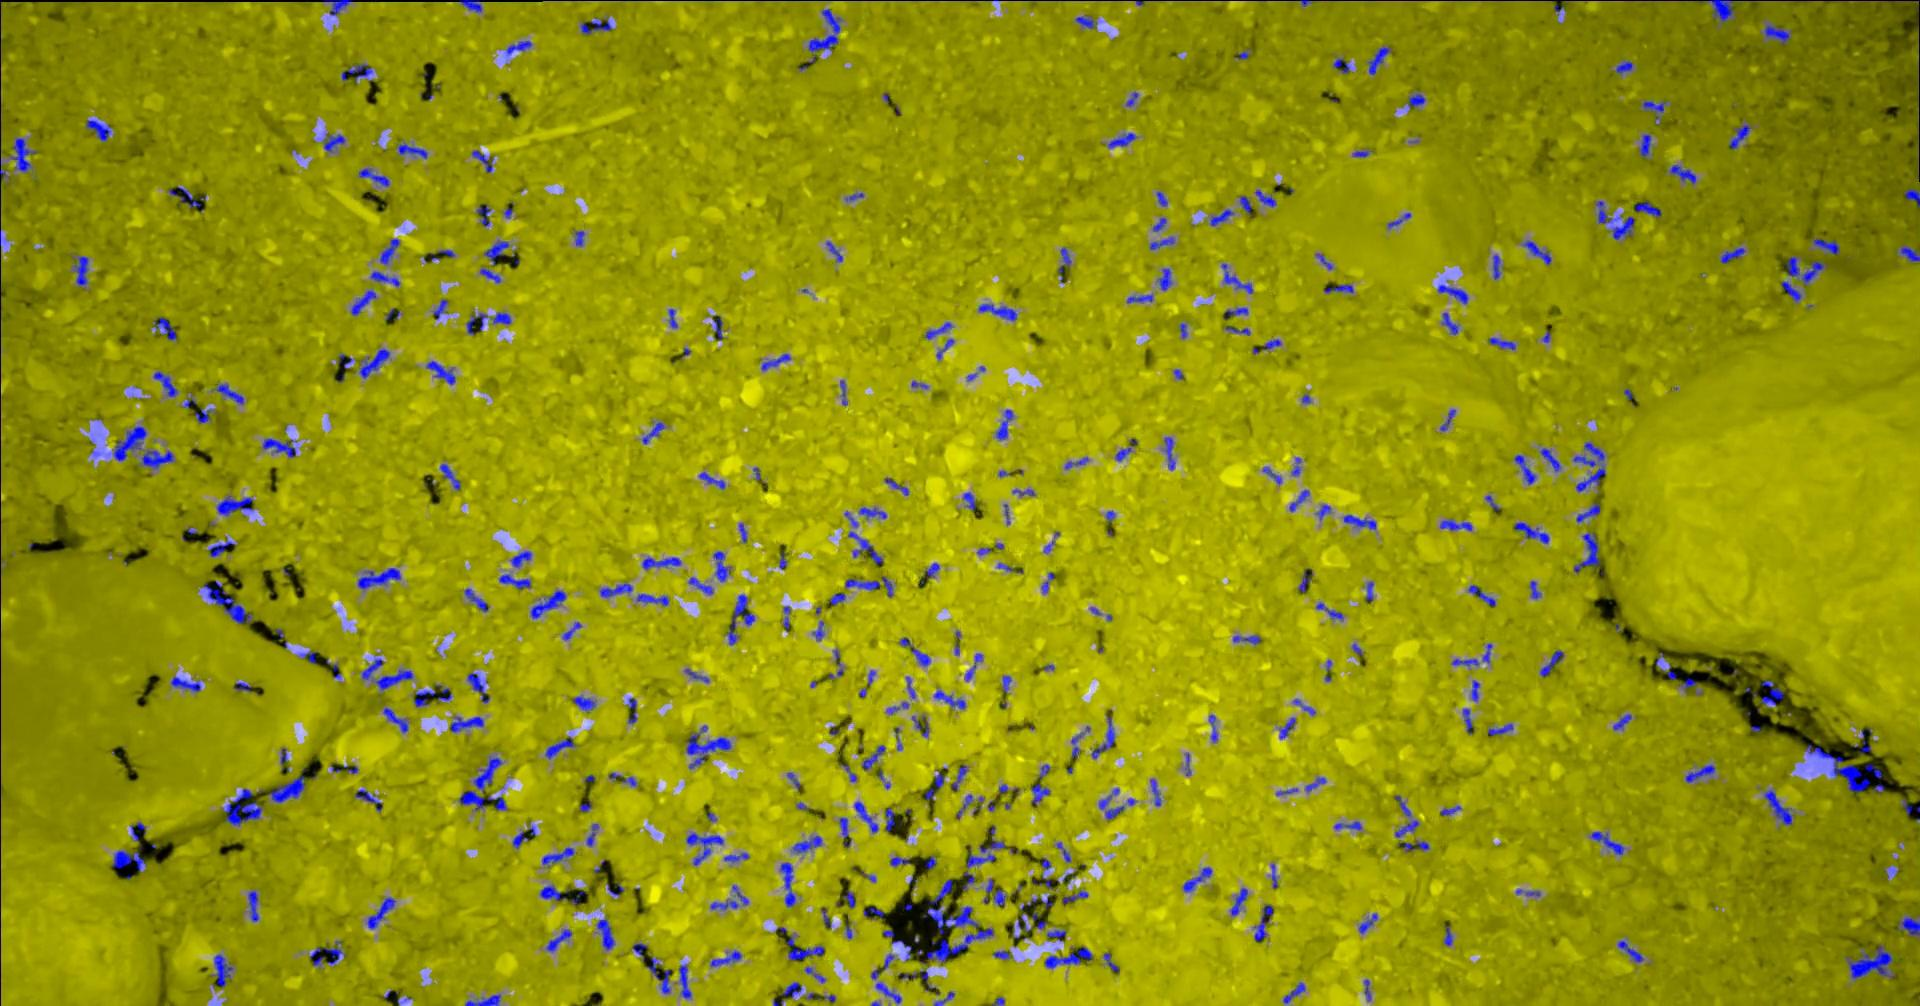ant: (1804, 744, 1869, 793), (202, 579, 251, 622), (808, 8, 841, 62), (1572, 441, 1605, 492), (1846, 944, 1895, 978), (870, 953, 902, 1005), (684, 733, 730, 768), (1595, 199, 1634, 239), (223, 788, 262, 826), (726, 594, 754, 644), (268, 767, 305, 801), (1017, 895, 1051, 932), (684, 832, 723, 865), (1785, 255, 1826, 285), (112, 426, 146, 460), (847, 531, 883, 563), (530, 589, 566, 619), (472, 756, 502, 793), (1091, 711, 1114, 758), (1573, 532, 1600, 572), (1044, 946, 1092, 968), (785, 935, 824, 960), (1763, 789, 1790, 824), (357, 567, 400, 589), (1693, 0, 1735, 23), (844, 575, 891, 596), (458, 790, 505, 810), (1222, 263, 1252, 293), (710, 885, 748, 909), (309, 940, 344, 965), (359, 348, 389, 379), (899, 636, 930, 666), (367, 897, 395, 929), (883, 929, 910, 960), (10, 137, 36, 171), (648, 956, 670, 993), (1098, 788, 1124, 819), (168, 185, 204, 207), (1512, 521, 1549, 542), (1589, 831, 1623, 854), (1030, 763, 1049, 804), (853, 801, 877, 832), (778, 862, 795, 907), (1523, 239, 1550, 264), (425, 359, 455, 384), (216, 495, 253, 514), (375, 669, 411, 688), (1253, 904, 1272, 941), (1512, 453, 1535, 484), (545, 735, 575, 758), (965, 845, 996, 868), (110, 850, 145, 870), (979, 826, 1004, 852), (1183, 866, 1211, 890), (772, 982, 801, 1005), (467, 672, 489, 702), (262, 438, 296, 457), (977, 304, 1016, 320), (541, 847, 573, 868), (1368, 46, 1390, 74), (140, 448, 173, 467), (484, 240, 508, 265), (350, 290, 375, 315), (152, 371, 177, 396), (1539, 650, 1563, 676), (340, 64, 372, 83), (1467, 584, 1495, 606), (354, 789, 382, 810), (213, 384, 243, 404), (215, 954, 232, 987), (1642, 100, 1666, 124), (383, 708, 408, 732), (358, 166, 389, 185), (1437, 285, 1468, 304), (1760, 680, 1783, 705), (596, 920, 615, 950), (546, 929, 571, 951), (1617, 940, 1643, 962), (1763, 24, 1790, 44), (538, 884, 573, 901), (579, 17, 611, 34), (933, 690, 965, 708), (1685, 763, 1714, 782), (924, 771, 943, 800), (152, 316, 177, 339), (463, 588, 488, 611), (861, 744, 884, 768), (85, 119, 110, 141), (1669, 164, 1695, 184), (378, 238, 399, 264), (208, 536, 235, 556), (985, 878, 1004, 906), (710, 950, 742, 967), (1728, 124, 1750, 149), (792, 835, 822, 852), (439, 464, 460, 489), (1575, 502, 1600, 522), (996, 409, 1012, 439), (450, 716, 483, 732), (641, 556, 681, 569), (1229, 887, 1247, 915), (471, 149, 493, 171), (1283, 982, 1304, 1005), (918, 561, 938, 586), (1851, 729, 1872, 753), (498, 574, 530, 589), (761, 353, 790, 370), (712, 551, 729, 580), (827, 649, 843, 678), (964, 653, 982, 680), (466, 312, 488, 334), (1288, 489, 1309, 511), (361, 658, 382, 680), (1780, 279, 1801, 302), (643, 420, 663, 443), (170, 676, 201, 691), (1896, 916, 1919, 936), (599, 583, 632, 597), (1316, 602, 1343, 619), (1540, 447, 1559, 471), (688, 575, 712, 594), (698, 471, 724, 489), (323, 0, 352, 15), (1107, 132, 1137, 147), (72, 255, 88, 285), (370, 271, 399, 286), (1343, 514, 1375, 528), (1634, 201, 1661, 217), (924, 323, 951, 339), (323, 133, 345, 152), (678, 964, 691, 998), (884, 478, 908, 495), (1394, 819, 1418, 837), (463, 993, 500, 1005), (1813, 238, 1839, 254), (1357, 912, 1377, 934), (397, 144, 427, 158), (413, 688, 436, 706), (1209, 208, 1233, 225), (1719, 246, 1743, 263), (571, 694, 596, 710), (608, 772, 636, 786), (505, 39, 531, 55), (951, 765, 966, 790), (935, 338, 952, 359), (1439, 518, 1472, 530), (1293, 699, 1316, 715), (1297, 568, 1312, 592), (1163, 437, 1175, 469), (636, 593, 668, 605), (1255, 189, 1275, 207), (910, 715, 928, 735), (1441, 312, 1458, 334), (1439, 409, 1455, 431), (1279, 716, 1295, 738), (1057, 246, 1070, 272), (858, 506, 886, 518), (1387, 212, 1410, 227), (1398, 840, 1429, 851), (1488, 337, 1515, 349), (1262, 466, 1281, 484), (563, 621, 582, 639), (1611, 713, 1630, 730), (684, 668, 709, 682), (825, 240, 842, 260), (510, 550, 531, 567), (838, 817, 850, 846), (804, 967, 825, 982), (1149, 236, 1175, 249), (1487, 723, 1512, 735), (1062, 890, 1087, 903), (1407, 91, 1425, 109), (510, 829, 527, 848), (1898, 246, 1919, 262), (432, 298, 447, 319), (1394, 795, 1410, 815), (248, 890, 258, 921), (1103, 951, 1119, 972), (1070, 732, 1082, 758), (1074, 14, 1096, 28), (476, 205, 490, 226), (479, 268, 500, 282), (1903, 188, 1919, 207), (1064, 456, 1087, 469), (1305, 776, 1324, 791), (130, 821, 145, 840), (1150, 779, 1161, 807), (1031, 874, 1051, 888), (1639, 133, 1651, 158), (1158, 268, 1171, 290), (585, 823, 598, 845), (1902, 798, 1919, 814), (1864, 763, 1882, 779), (805, 992, 836, 1001), (458, 0, 481, 11), (1223, 307, 1248, 318), (712, 315, 723, 340), (1041, 572, 1054, 592), (1462, 708, 1472, 733), (723, 852, 748, 862), (194, 408, 211, 423), (436, 683, 451, 700), (1232, 635, 1260, 644), (1208, 714, 1217, 742), (1225, 325, 1250, 335), (884, 807, 894, 831), (963, 492, 975, 511), (1335, 821, 1361, 829), (1333, 57, 1349, 72), (811, 620, 823, 640), (1439, 805, 1462, 815), (1615, 60, 1632, 74), (841, 890, 855, 907), (1126, 293, 1152, 302), (1680, 677, 1698, 690), (627, 697, 636, 723), (1323, 285, 1352, 292), (489, 312, 510, 323), (963, 871, 974, 890), (1046, 929, 1065, 940), (337, 353, 350, 368), (1316, 504, 1330, 520), (1114, 447, 1130, 460), (889, 856, 909, 866), (1239, 196, 1251, 213), (1529, 580, 1540, 598), (298, 652, 316, 663), (1451, 658, 1478, 666), (279, 747, 288, 770), (1152, 217, 1166, 231), (1492, 254, 1500, 279), (829, 592, 844, 605), (863, 907, 883, 917), (632, 942, 648, 955), (1470, 680, 1479, 701), (1443, 925, 1451, 945), (1156, 191, 1167, 206), (668, 307, 677, 326), (232, 682, 251, 691), (992, 950, 1011, 959), (574, 230, 584, 246), (1263, 339, 1280, 349), (1002, 674, 1011, 692), (1365, 580, 1373, 601), (783, 605, 790, 629), (1917, 62, 1919, 114)
